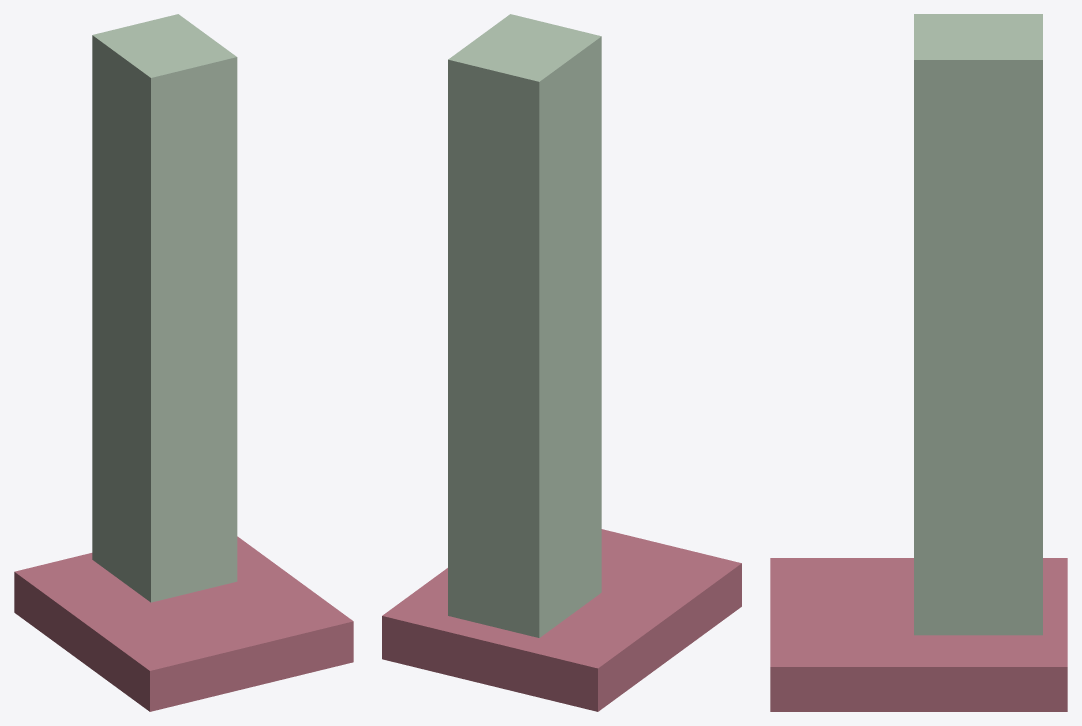
3 views of the same model, side by side, from view 1: azimuth 30°, elevation 25°; view 2: azimuth 150°, elevation 25°; view 3: azimuth 270°, elevation 25° (orthographic). The views are drawn at different scales.
Parts seen in each view (by area): view 1: world; view 2: world; view 3: world.
Part boxes in pixels (x1,y1,x2,y2): world: (14,14,353,711); world: (382,14,741,711); world: (770,14,1067,711).
Size of the model in its own units: 2.6 by 6.95 by 3.
